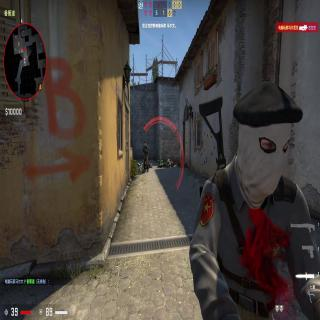T-Body: (142, 140, 150, 172)
T-Head: (232, 83, 302, 197), (144, 140, 146, 147)
